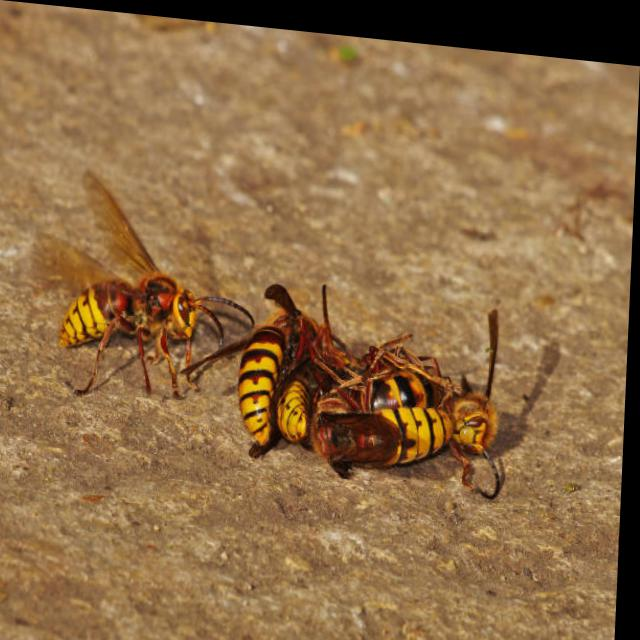Vespa Crabro: (40, 151, 254, 413), (319, 320, 545, 504), (217, 260, 323, 457)
